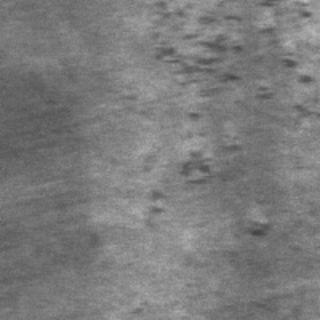rolled pit: (137, 0, 316, 100), (142, 146, 266, 234)
